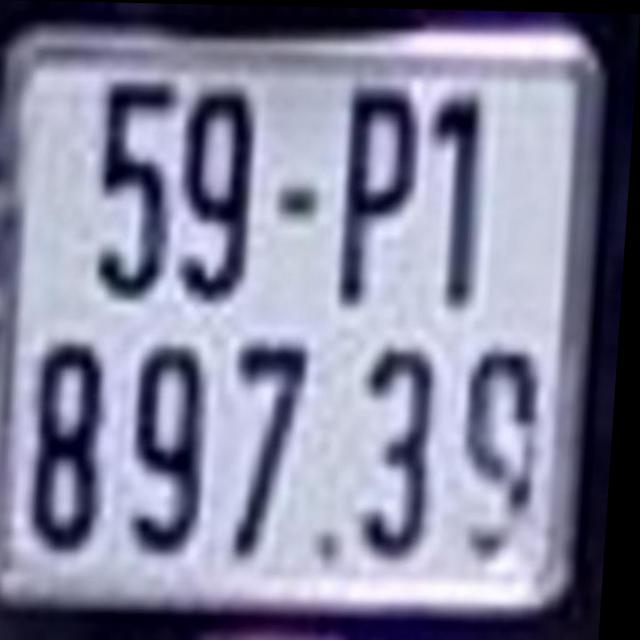1: (428, 92, 499, 317)
3: (365, 347, 450, 557)
5: (100, 78, 178, 286)
7: (232, 342, 305, 551)
8: (32, 343, 126, 552)
9: (177, 85, 259, 293), (468, 352, 549, 562), (136, 342, 212, 547)
P: (341, 87, 424, 303)
